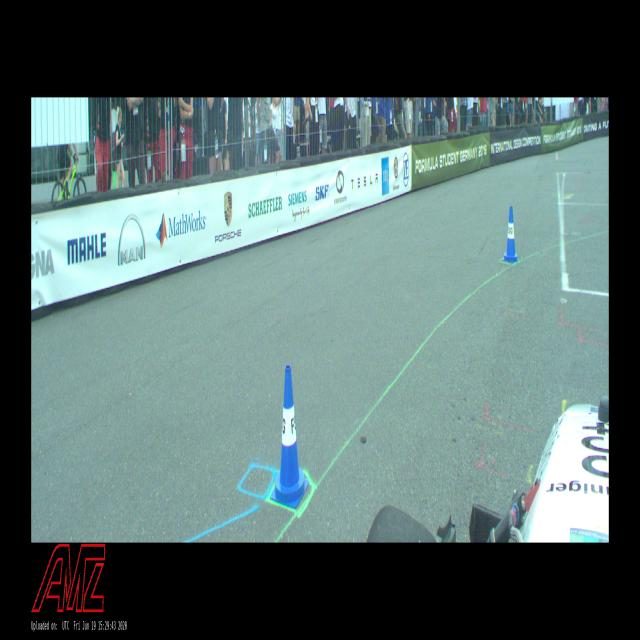blue_cone: (270, 364, 310, 508), (502, 206, 520, 264)
